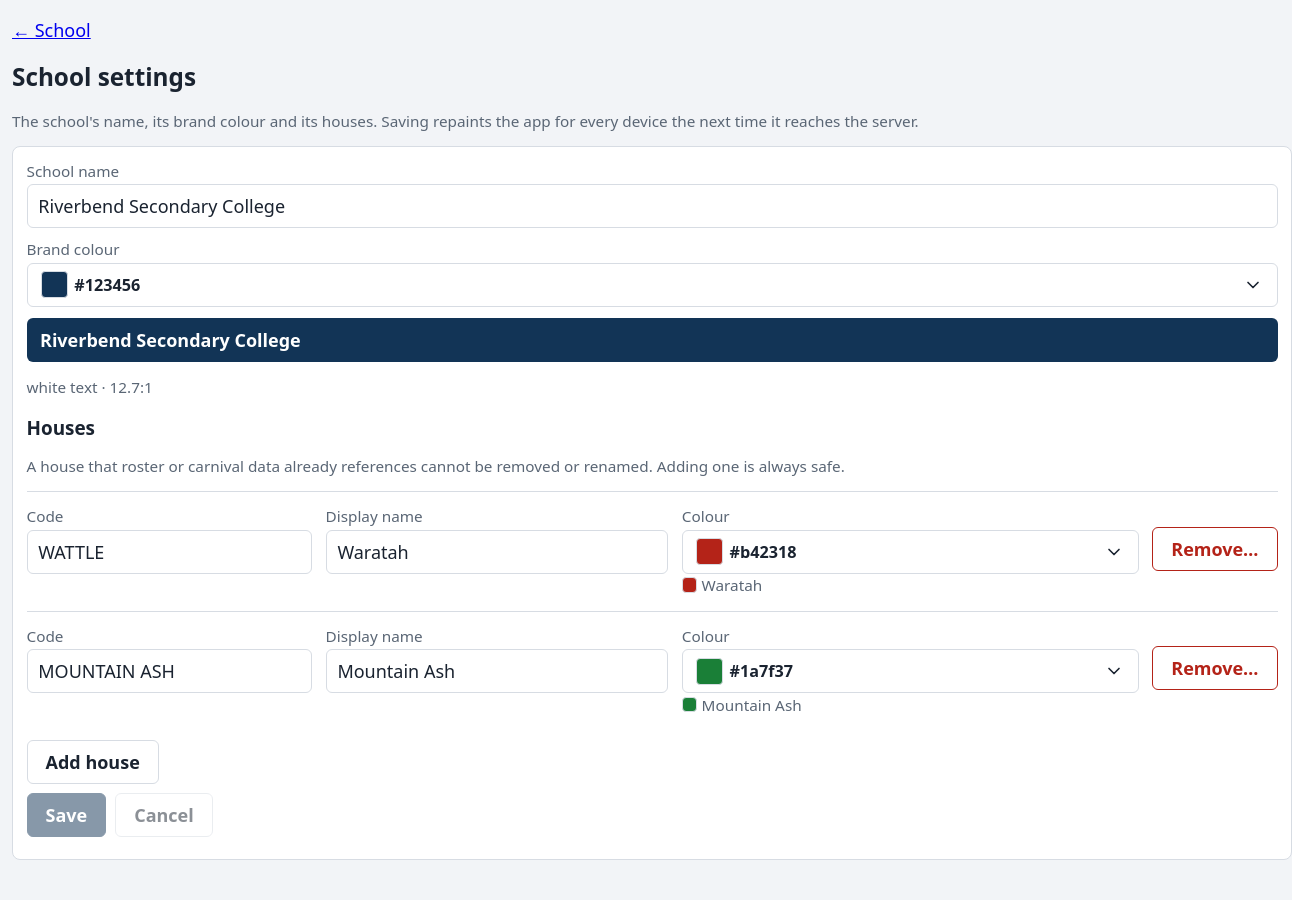
Test: SchoolSettingsScreen › restores the loaded values on Cancel
Replace the text in the field labelled "School name" with "Someone else's school". click: (652, 206)
box: [26,184,1278,228]
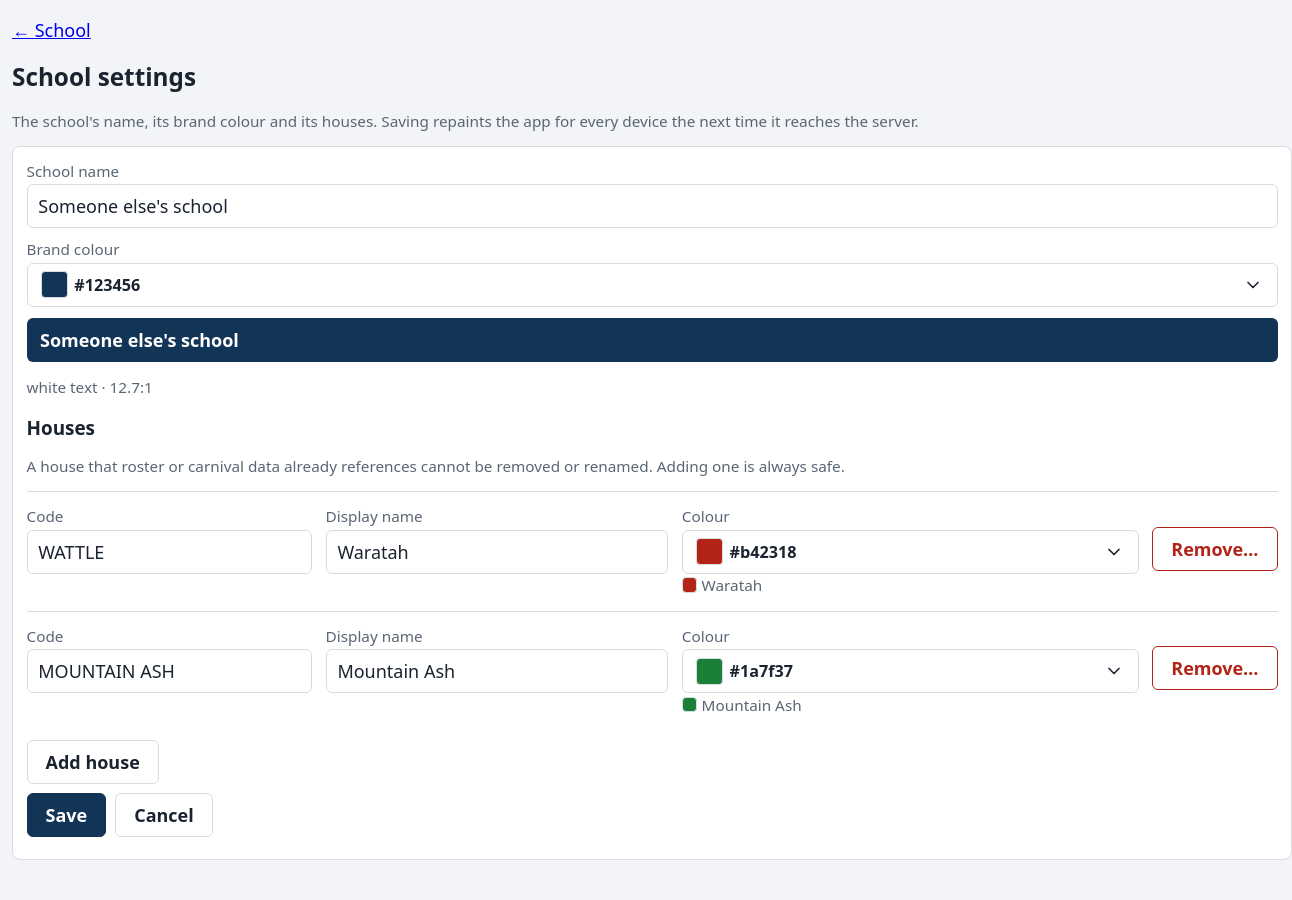
Check: the button "Save" is enabled, box [26,793,106,837]
Click the button "Cancel". click: click(164, 815)
box: [115,793,213,837]
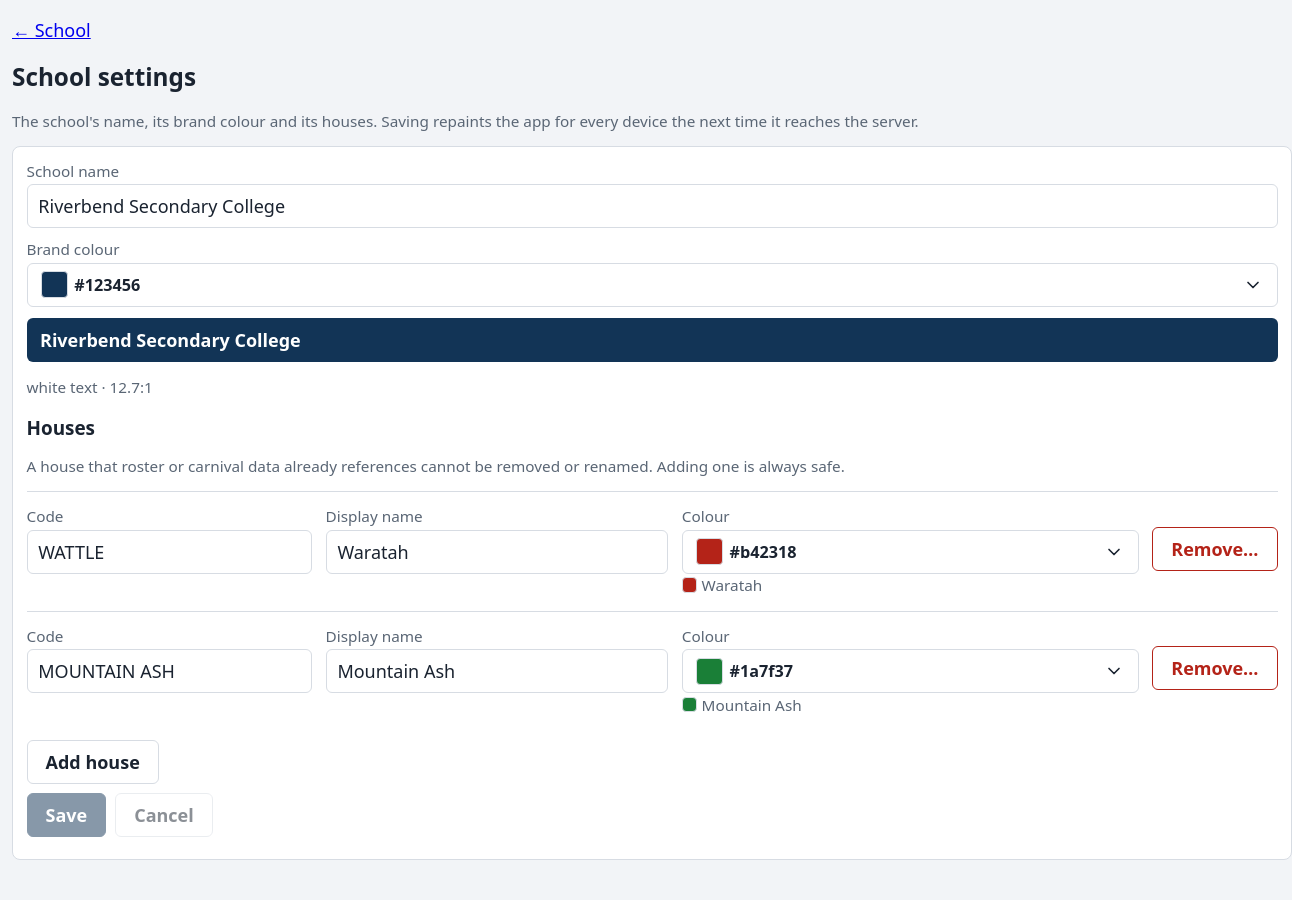
Check: the field labelled "School name" holds "Riverbend Secondary College", box [26,184,1278,228]
